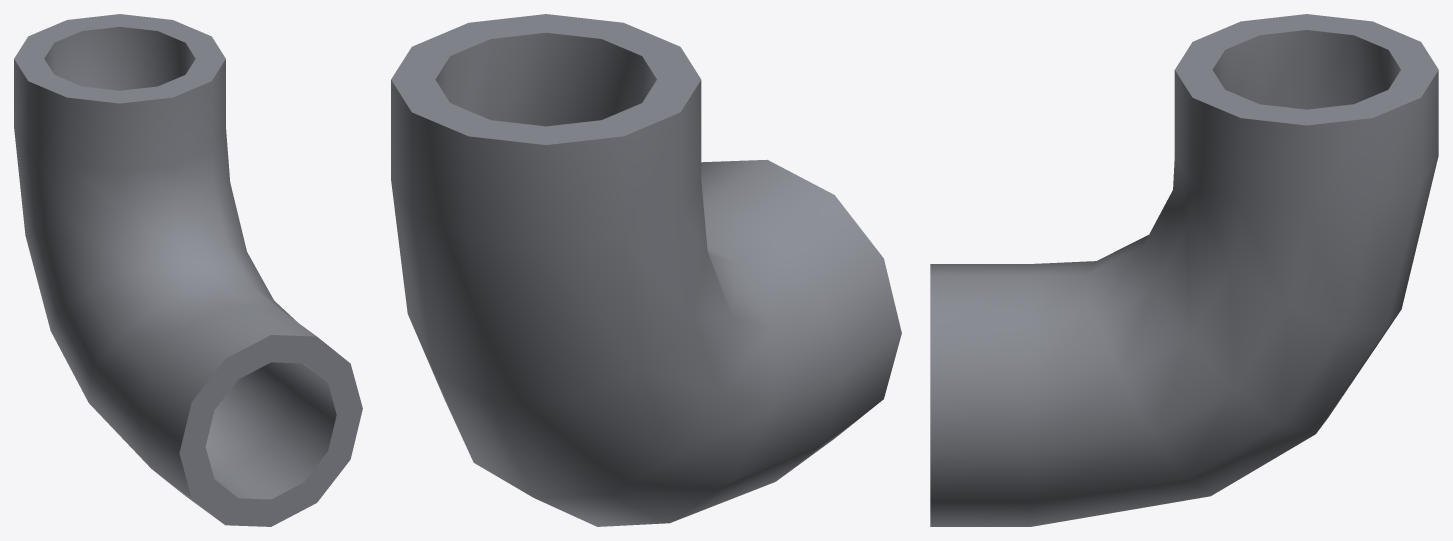
The model's file is jpipe.FBX.
3 views of the same model, side by side, from view 1: azimuth 30°, elevation 25°; view 2: azimuth 150°, elevation 25°; view 3: azimuth 270°, elevation 25° (orthographic). The views are drawn at different scales.
Visible parts, largest first — view 1: Tube001; view 2: Tube001; view 3: Tube001.
Boxes of the visible parts, x1,y1,x2,y2 form: Tube001: [14, 14, 362, 526]; Tube001: [391, 14, 901, 526]; Tube001: [930, 14, 1438, 526].
Size of the model in its own units: 14 by 26.06 by 26.97.
